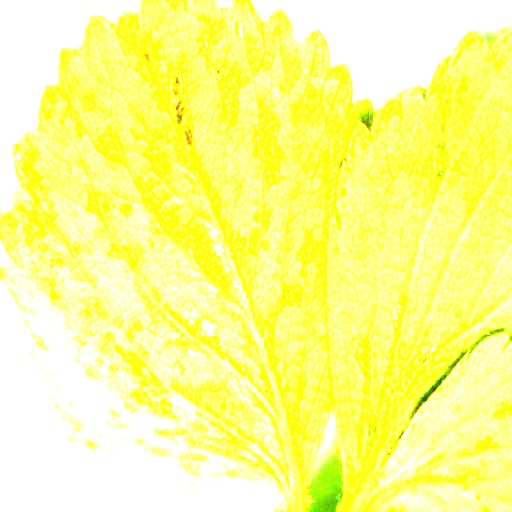Angular Leafspot: (0, 0, 375, 497), (328, 27, 511, 506), (358, 334, 511, 511)
